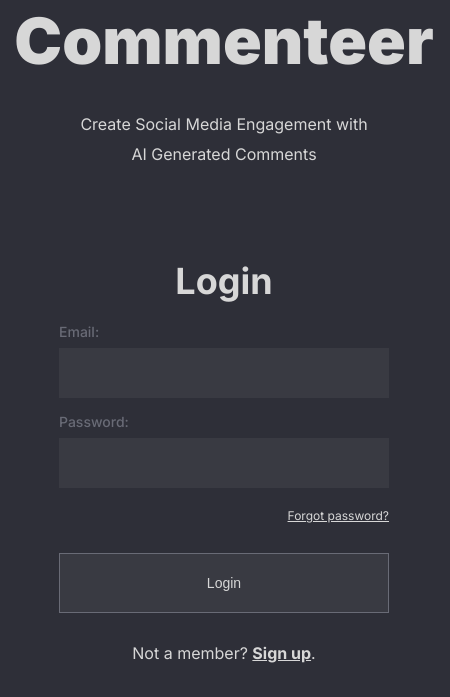
User login › lets the user go to the signup page
(page scrolled)
expect the element showing "Not a member? Sign up ." is shown: met, box x1=132 y1=643 x2=316 y2=663
What coordinates should you click on to do the following:
click the link "Sign up"
I would click on:
 (282, 653)
Its box is x1=252 y1=638 x2=311 y2=668.
(page scrolled)
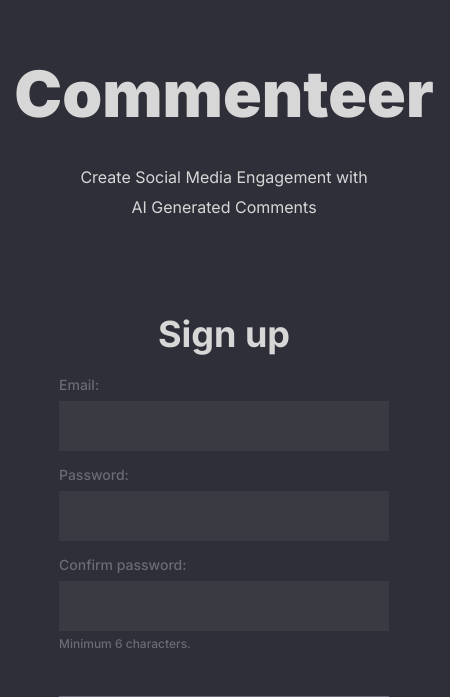
expect the heading "Sign up" is shown: met, box x1=158 y1=312 x2=290 y2=356
